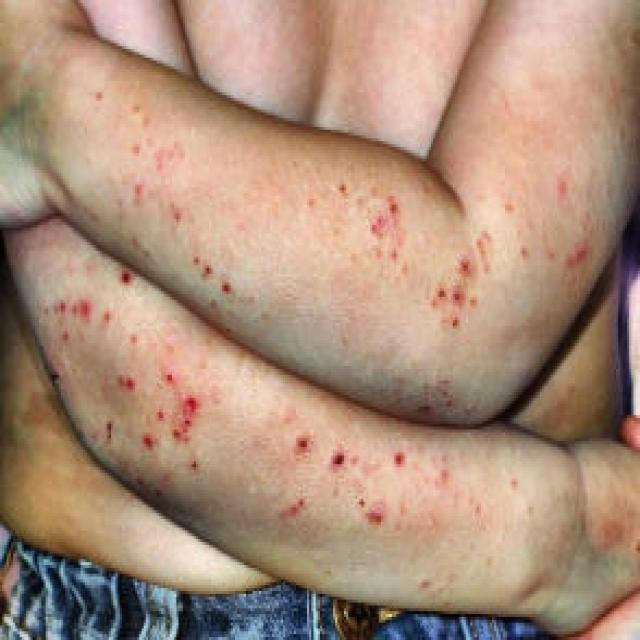Eczema: (69, 105, 573, 564)
